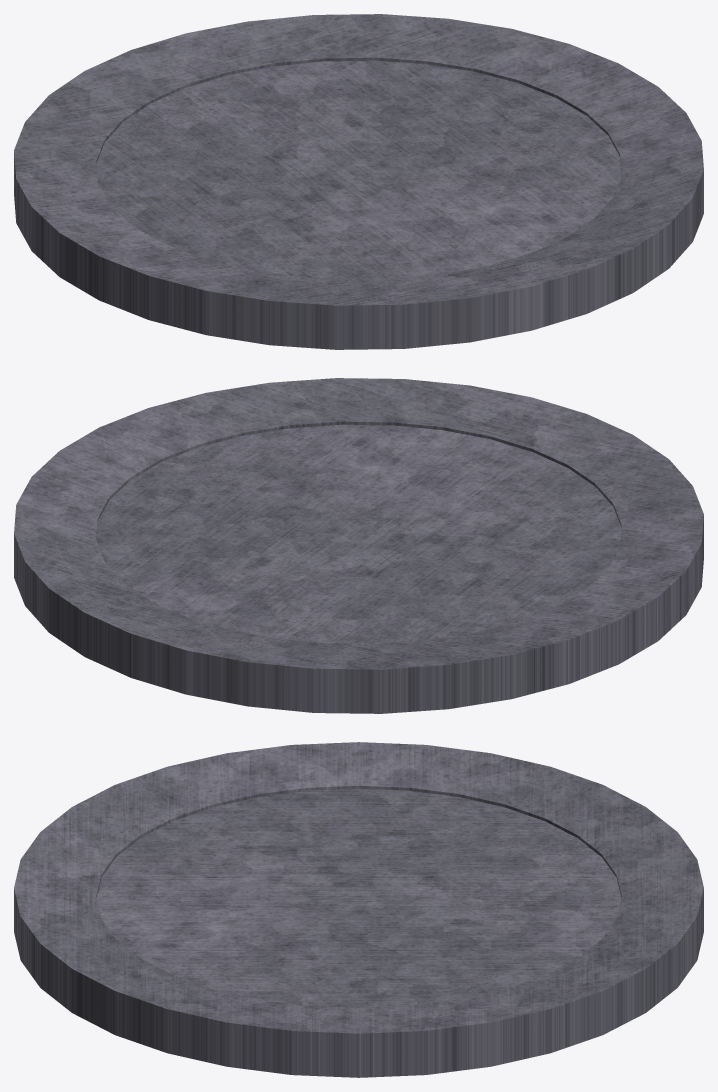
The model's file is coin.fbx.
3 views of the same model, one above another, from view 1: azimuth 30°, elevation 25°; view 2: azimuth 150°, elevation 25°; view 3: azimuth 270°, elevation 25° (orthographic).
Parts seen in each view (by area): view 1: coin; view 2: coin; view 3: coin.
Boxes of the visible parts, left/top/right/bottom form: coin: left=14, top=14, right=703, bottom=349; coin: left=14, top=378, right=703, bottom=713; coin: left=14, top=742, right=703, bottom=1077.
Size of the model in its own units: 2.31 by 0.1634 by 2.31.
Materials: 1 (1 with a texture image).
